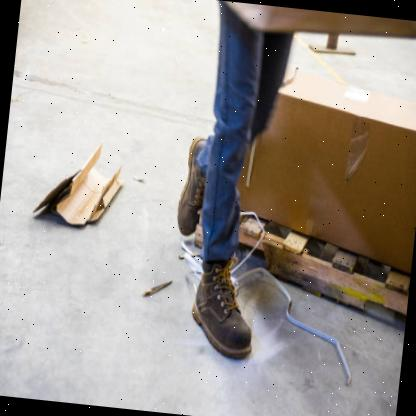bota: (185, 252, 263, 363), (172, 131, 209, 240)
